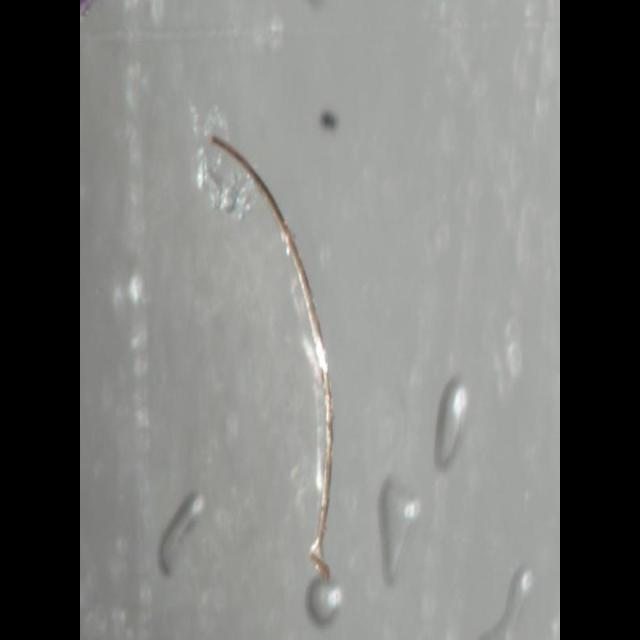Fibre: (206, 130, 334, 582)
